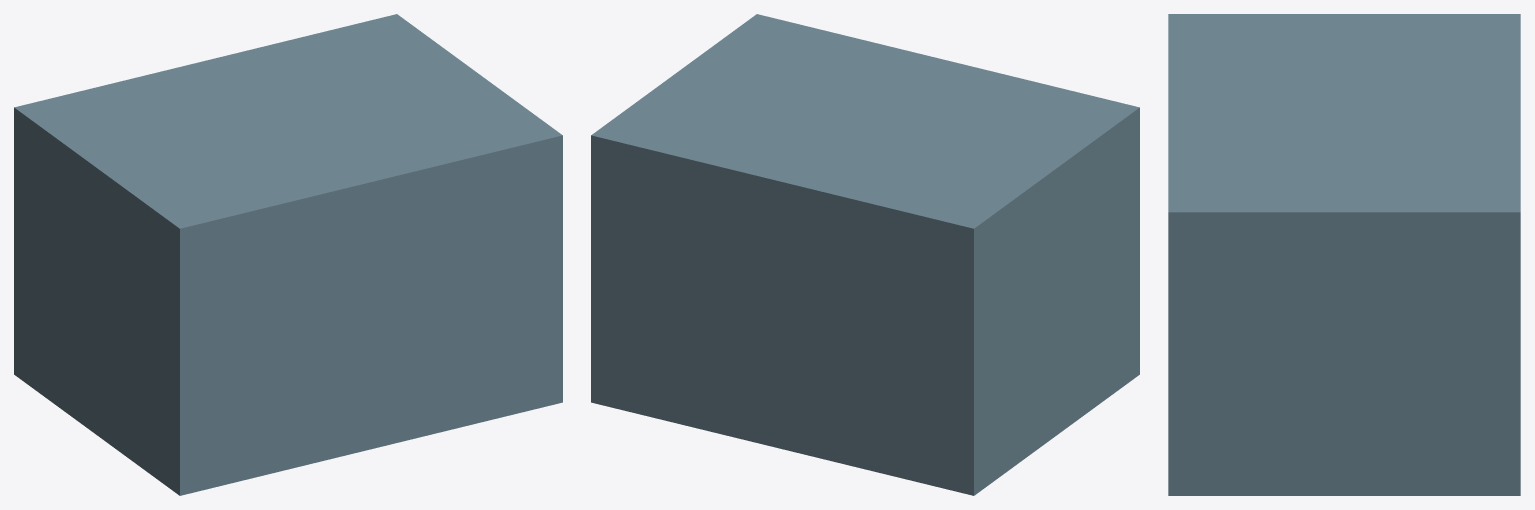
File: household_storage_set.glb
3 renders of one model, left to right at view 1: azimuth 30°, elevation 25°; view 2: azimuth 150°, elevation 25°; view 3: azimuth 270°, elevation 25°, orthographic. The views are drawn at different scales.
Visible parts, largest first — view 1: household_storage_set; view 2: household_storage_set; view 3: household_storage_set.
Part boxes in pixels (box(x1,y1,x2,y2)): household_storage_set: box(14, 14, 562, 495); household_storage_set: box(591, 14, 1139, 495); household_storage_set: box(1168, 14, 1520, 495).
Size of the model in its own units: 1.2 by 0.8 by 0.9.
